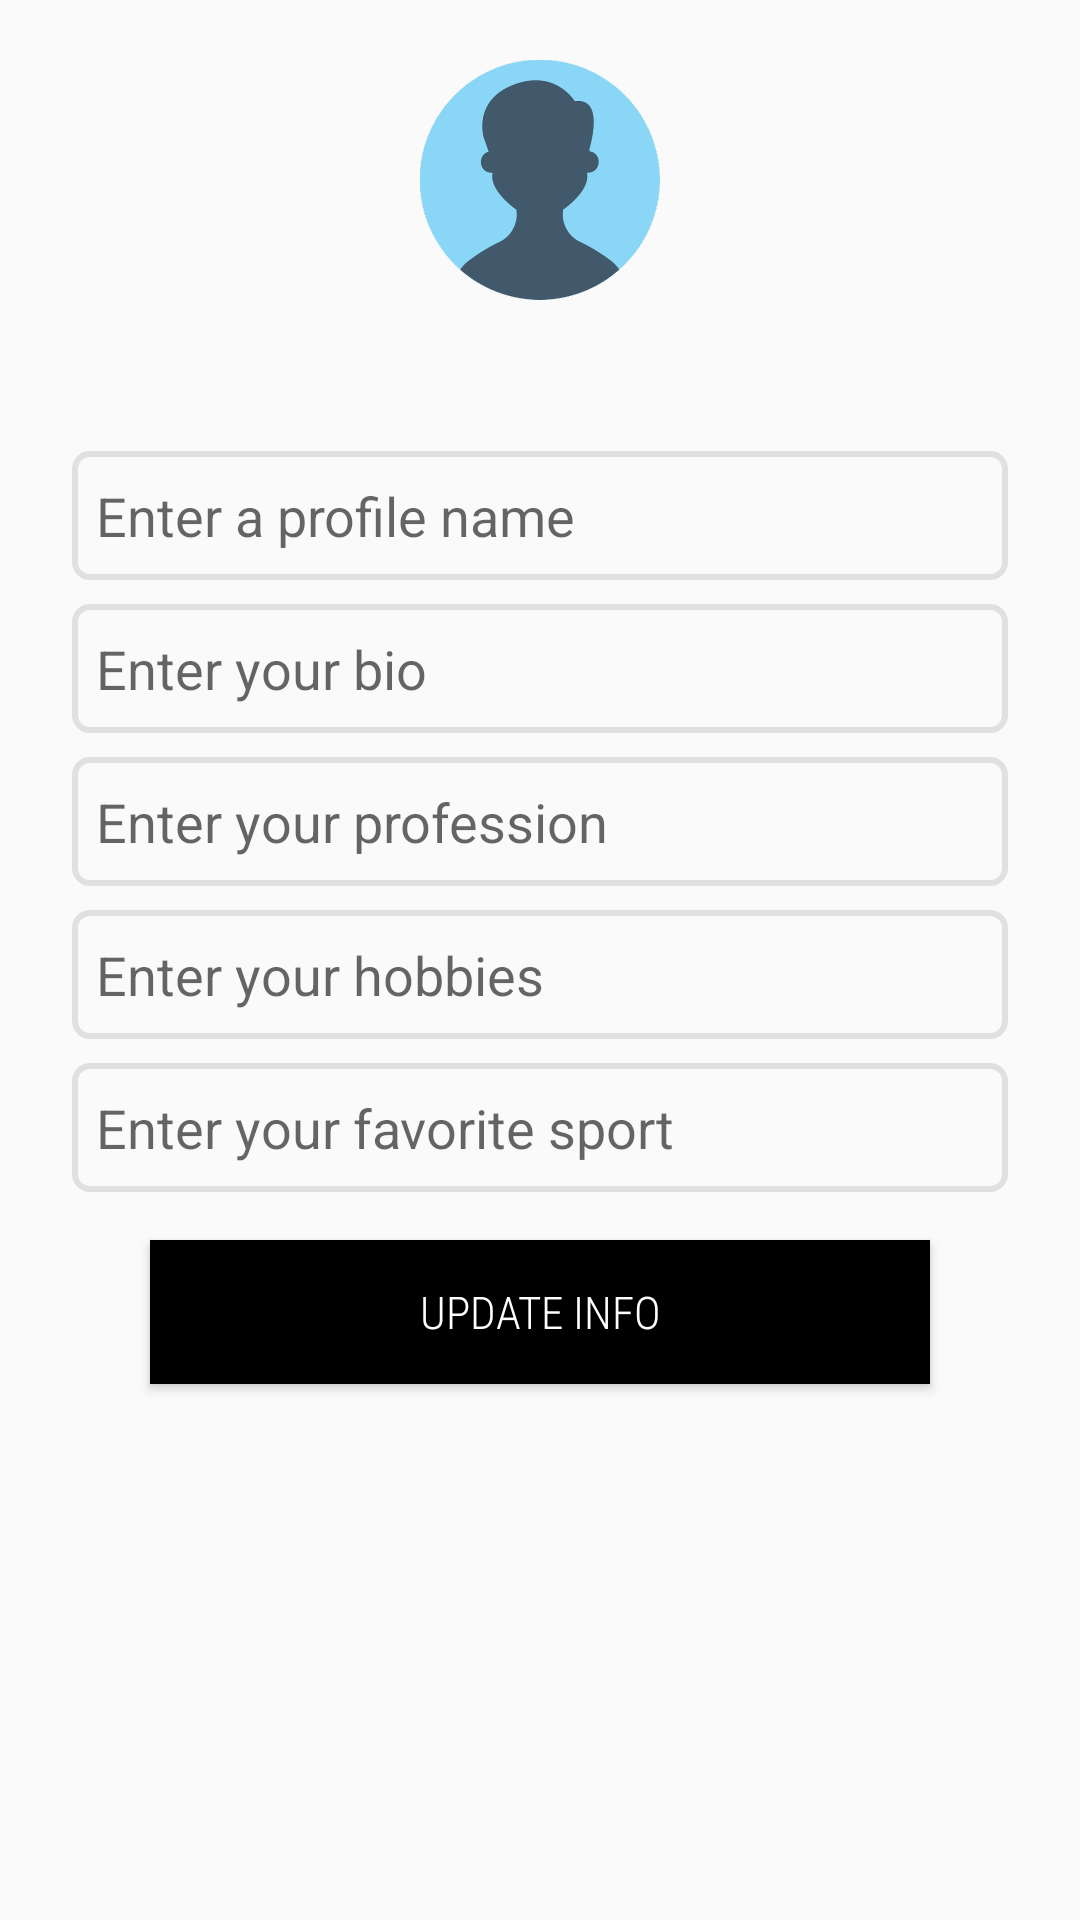

Point at icon controls on the screen. Image size 1080x1920, points as (x,y).
user: (540,180)
